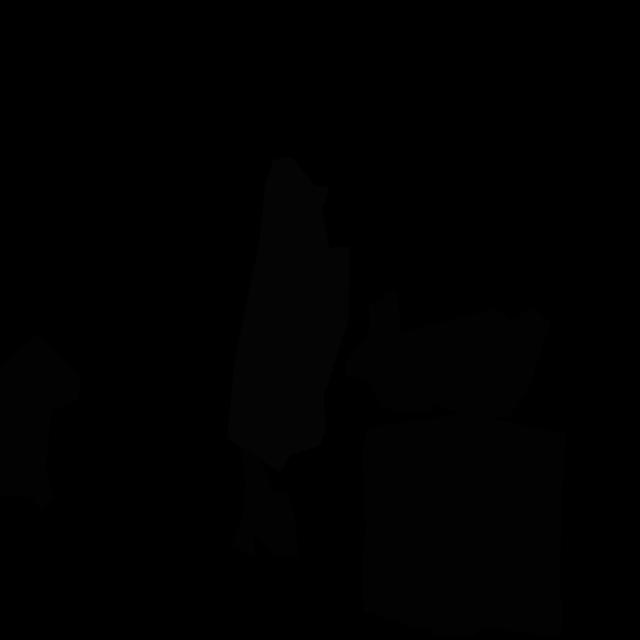cardboard: (362, 415, 566, 638), (345, 288, 550, 419), (0, 333, 80, 511), (231, 447, 298, 557)
soft_plastic: (227, 157, 350, 473)
